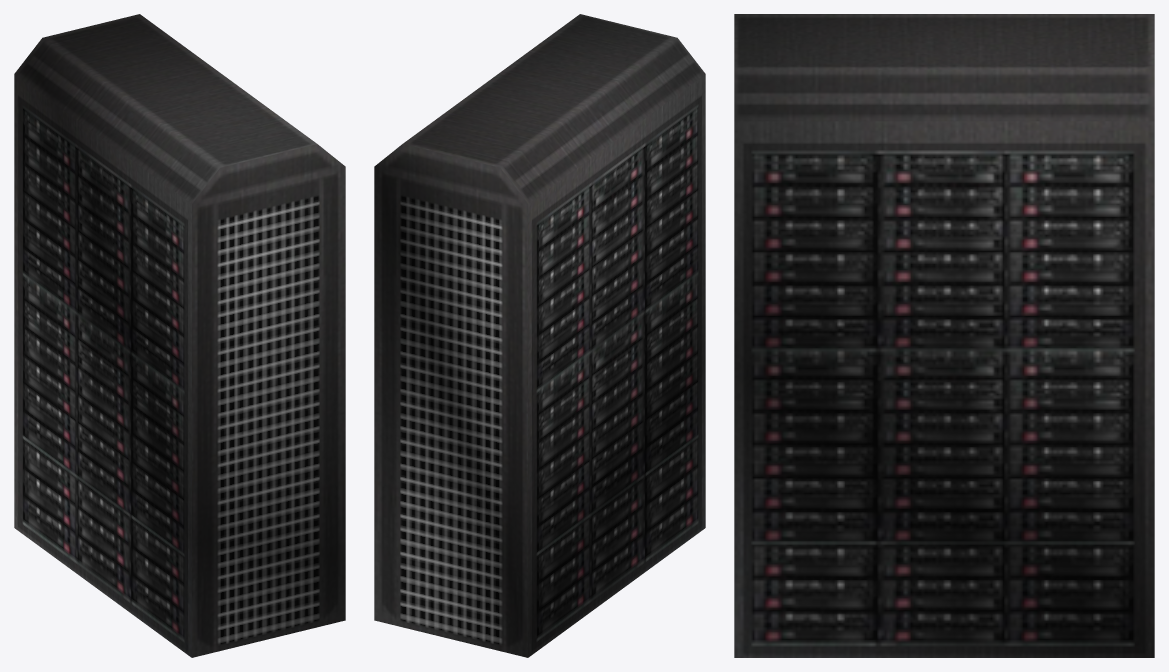
Rendered from MESH_SERVIDOR_PROP.fbx.
3 views of the same model, side by side, from view 1: azimuth 30°, elevation 25°; view 2: azimuth 150°, elevation 25°; view 3: azimuth 270°, elevation 25° (orthographic). The views are drawn at different scales.
Visible parts, largest first — view 1: MESH_SERVIDOR_PROP; view 2: MESH_SERVIDOR_PROP; view 3: MESH_SERVIDOR_PROP.
Boxes of the visible parts, x1,y1,x2,y2 form: MESH_SERVIDOR_PROP: (14, 14, 345, 657); MESH_SERVIDOR_PROP: (374, 14, 705, 657); MESH_SERVIDOR_PROP: (734, 14, 1154, 657).
Bounding box in the file's own units: 1 × 3 × 2.
